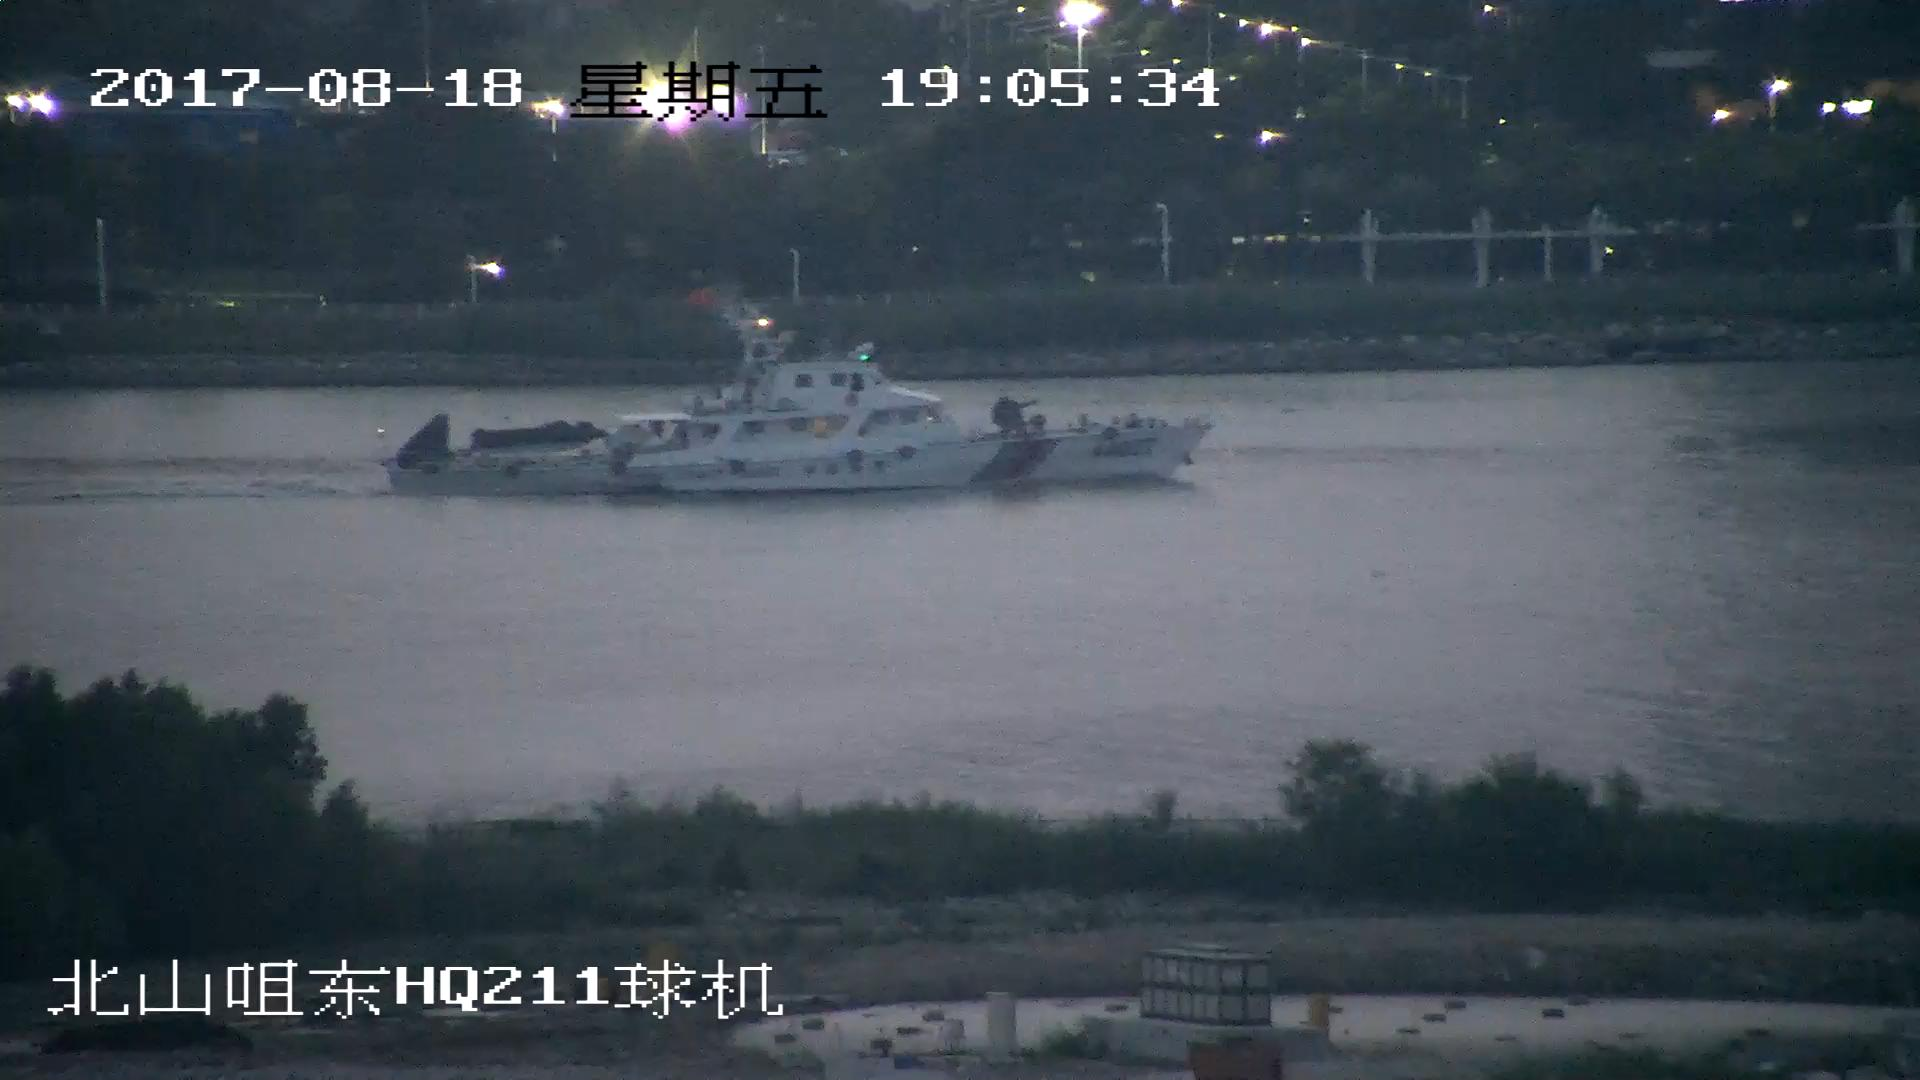passenger ship: (382, 320, 1214, 498)
